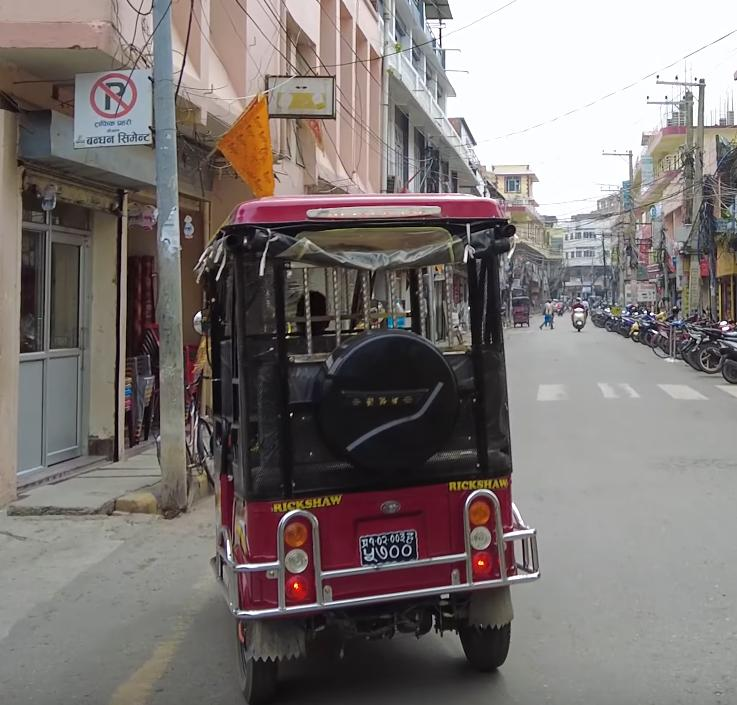e-rickshaw: (193, 191, 541, 697)
